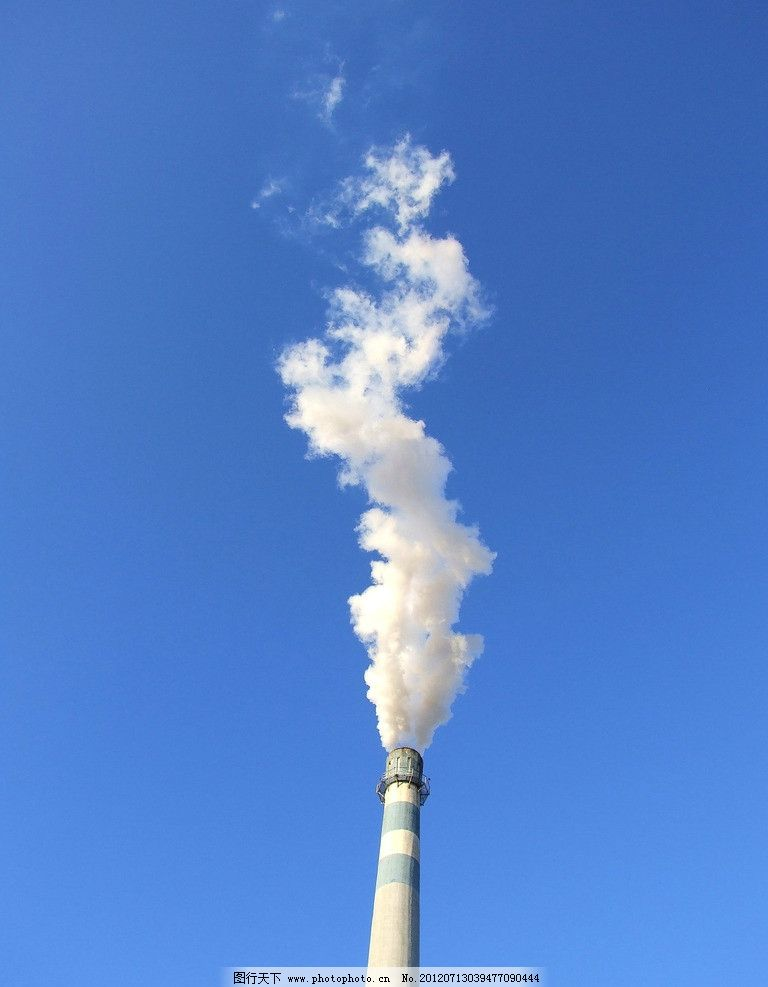dust: (258, 320, 541, 779)
